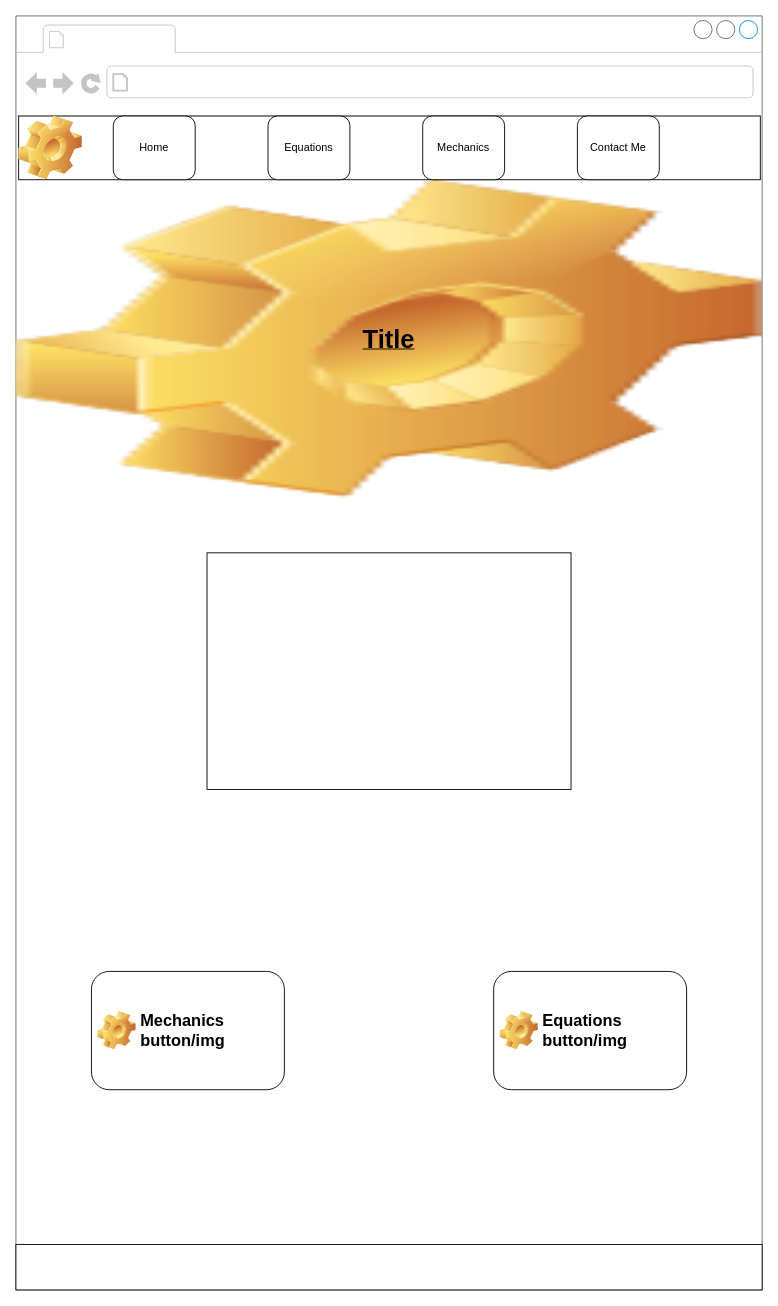
Some shapes in this 778 by 1306 pixel diagram are drawn without their labels. The box of each missing label's shape, as (x1, y1, x2, y2) in pixels:
basic discription of the lore of the book and the consept of the game: (206, 552, 571, 789)
footer, name, copywrite, socals: (15, 1244, 762, 1290)
Page 1: (70, 26, 171, 51)
www.theMelee.com: (133, 70, 362, 94)
